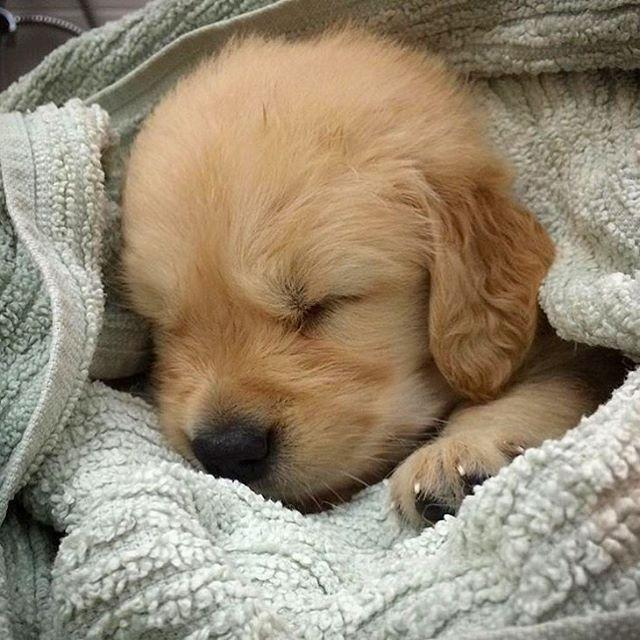puppy-dog: (104, 24, 625, 527)
